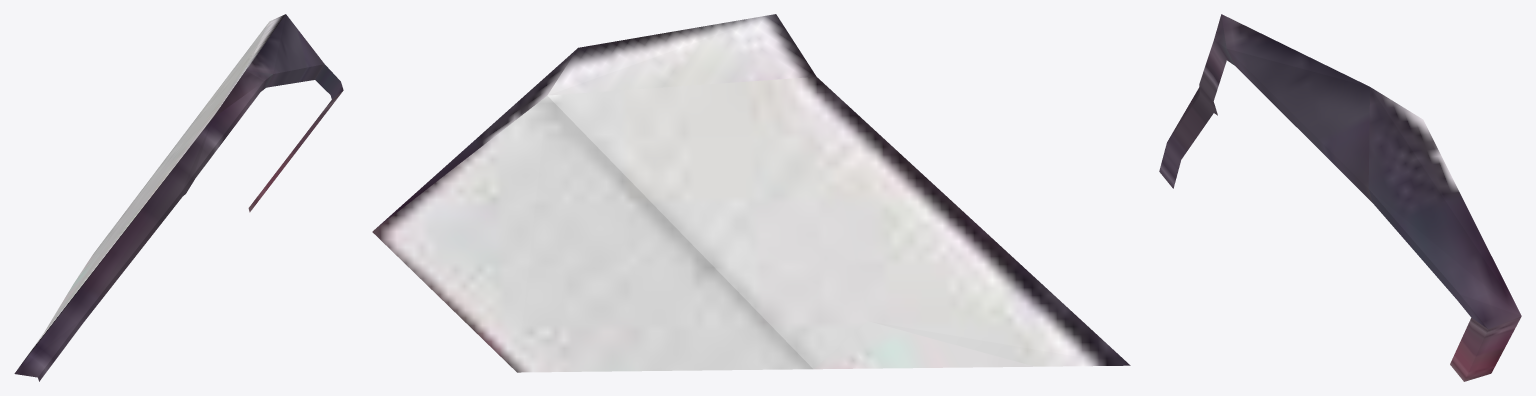
3 renders of one model, left to right at view 1: azimuth 30°, elevation 25°; view 2: azimuth 150°, elevation 25°; view 3: azimuth 270°, elevation 25°, orthographic. The views are drawn at different scales.
Size of the model in its own units: 13.1 by 6.73 by 6.92.
1 material, 1 textured.
